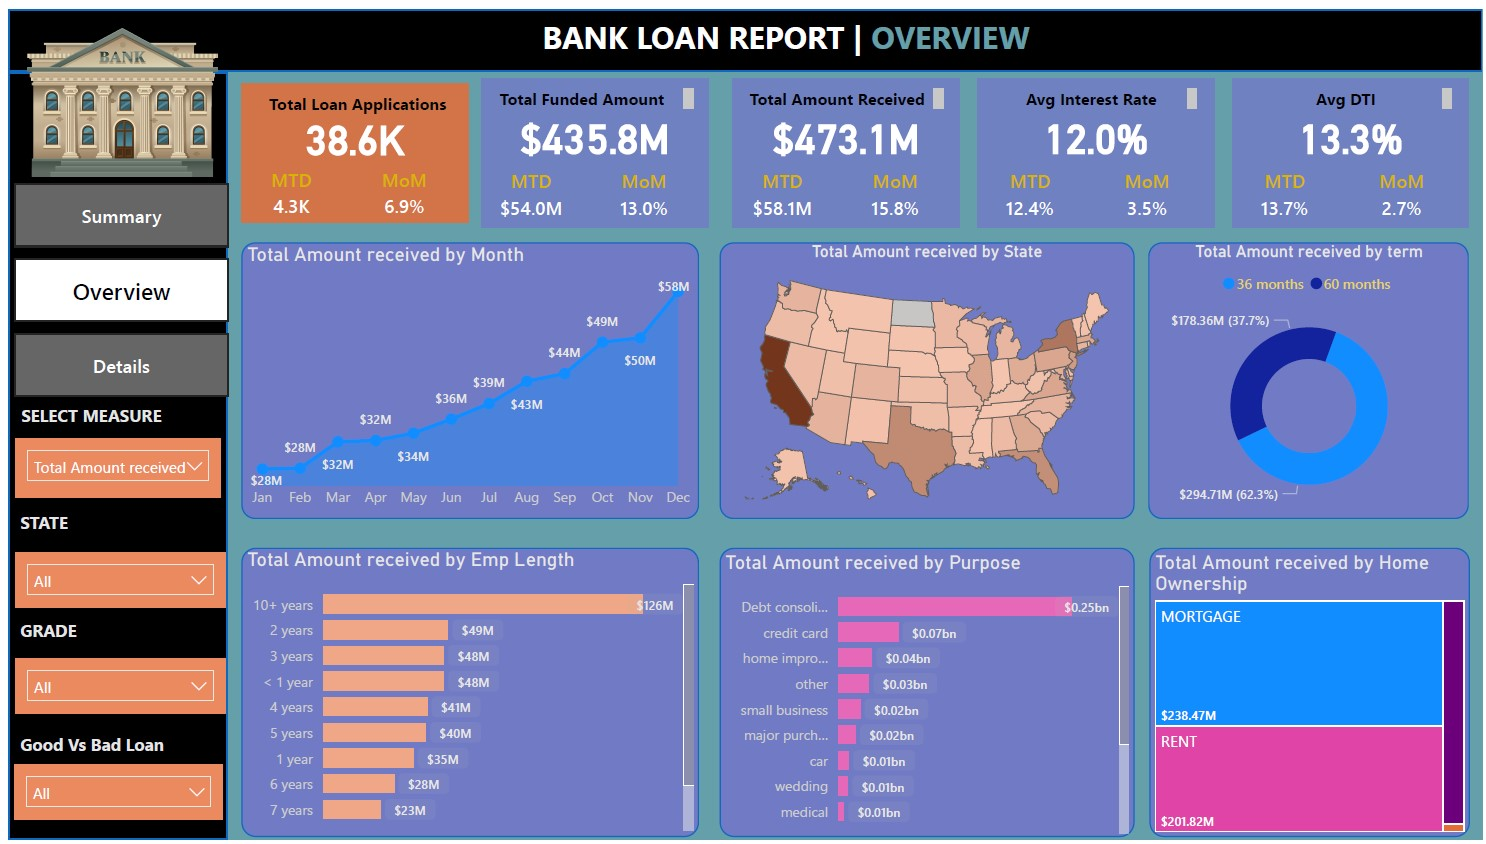

What the dashboard file says about the page in this screenshot:
{"tool":"powerbi","page":{"name":"Overview","canvas":[1280,720],"ordinal":1},"visuals":[{"type":"shape","box":[201.9,201.9,397.4,240],"z":0},{"type":"shape","box":[0,0,1279.5,54],"z":1000},{"type":"shape","box":[0,54.2,190,665.8],"z":2000},{"type":"textbox","box":[457.7,0,481.6,55.6],"z":3000},{"type":"shape","box":[410.1,60.4,197.1,128.7],"z":3000,"group":"g2"},{"type":"shape","box":[627.8,60.4,197.1,128.7],"z":3000,"group":"g3"},{"type":"shape","box":[840.8,60.4,205,128.7],"z":3000,"group":"g4"},{"type":"shape","box":[1061.7,60.4,205,128.7],"z":3000,"group":"g5"},{"type":"shape","box":[201.9,63.6,197.1,120.8],"z":3000,"group":"g1"},{"type":"group","id":"g1","title":"Group 1","box":[201.9,63.6,197.1,120.8],"z":4000},{"type":"card","fields":{"Values":["bank_loan_data.Total Funded Amount"]},"box":[410.1,77.8,197.1,64.4],"z":4000,"group":"g2"},{"type":"card","fields":{"Values":["bank_loan_data.Total Amount received"]},"box":[627.8,77.8,197.1,64.4],"z":4000,"group":"g3"},{"type":"card","fields":{"Values":["bank_loan_data.Avg Interest Rate"]},"box":[840.8,77.8,205,64.4],"z":4000,"group":"g4"},{"type":"card","fields":{"Values":["bank_loan_data.AVG DTI"]},"box":[1061.7,77.8,205,64.4],"z":4000,"group":"g5"},{"type":"card","fields":{"Values":["bank_loan_data.Total Loan Application"]},"box":[201.9,79.9,197.1,60.4],"z":4000,"group":"g1"},{"type":"group","id":"g2","title":"Group 1","box":[410.1,60.4,197.1,128.7],"z":4250,"group":"g6"},{"type":"group","id":"g3","title":"Group 1","box":[627.8,60.4,197.1,128.7],"z":4250,"group":"g7"},{"type":"group","id":"g4","title":"Group 1","box":[840.8,60.4,205,128.7],"z":4250,"group":"g8"},{"type":"group","id":"g5","title":"Group 1","box":[1061.7,60.4,205,128.7],"z":4250,"group":"g9"},{"type":"textbox","box":[220.9,66.8,178,31.8],"z":5000},{"type":"textbox","box":[421.1,62.9,178,28.6],"z":5001,"group":"g6"},{"type":"textbox","box":[637.3,63.9,178,27.8],"z":5001,"group":"g7"},{"type":"textbox","box":[850.7,63.9,185.2,27.8],"z":5001,"group":"g8"},{"type":"textbox","box":[1071.6,63.9,185.2,27.8],"z":5001,"group":"g9"},{"type":"group","id":"g6","title":"Group 2","box":[410.1,60.4,197.1,128.7],"z":6000},{"type":"card","title":"MTD","fields":{"Values":["bank_loan_data.MTD Loan Applications"]},"box":[201.9,137.1,87.4,47.3],"z":6000,"group":"g1"},{"type":"card","title":"MTD","fields":{"Values":["bank_loan_data.MTD Loan Amount"]},"box":[410.1,138.7,87.4,50.5],"z":6000,"group":"g2"},{"type":"card","title":"MTD","fields":{"Values":["bank_loan_data.MTD Total amount received"]},"box":[627.8,138.7,87.4,50.5],"z":6000,"group":"g3"},{"type":"card","title":"MTD","fields":{"Values":["bank_loan_data.MTD Avg interest rate"]},"box":[840.8,138.7,90.9,50.5],"z":6000,"group":"g4"},{"type":"card","title":"MTD","fields":{"Values":["bank_loan_data.MTD Avg DTI"]},"box":[1061.7,138.7,90.9,50.5],"z":6000,"group":"g5"},{"type":"group","id":"g7","title":"Group 2","box":[627.8,60.4,197.1,128.7],"z":7000},{"type":"card","title":"MoM","fields":{"Values":["bank_loan_data.MOM Loan Application"]},"box":[287.7,137.1,111.3,47.3],"z":7000,"group":"g1"},{"type":"card","title":"MoM","fields":{"Values":["bank_loan_data.MOM Total funded amount"]},"box":[495.9,138.7,111.3,50.5],"z":7000,"group":"g2"},{"type":"card","title":"MoM","fields":{"Values":["bank_loan_data.MOM Total amount received"]},"box":[713.6,138.7,111.3,50.5],"z":7000,"group":"g3"},{"type":"card","title":"MoM","fields":{"Values":["bank_loan_data.MOM Avg Int Rate"]},"box":[930.1,138.7,115.7,50.5],"z":7000,"group":"g4"},{"type":"card","title":"MoM","fields":{"Values":["bank_loan_data.MOM Avg DTI"]},"box":[1151,138.7,115.7,50.5],"z":7000,"group":"g5"},{"type":"group","id":"g8","title":"Group 2","box":[840.8,60.4,205,128.7],"z":8000},{"type":"group","id":"g9","title":"Group 2","box":[1061.7,60.4,205,128.7],"z":9000},{"type":"slicer","fields":{"Values":["bank_loan_data.address_state"]},"box":[6.4,471,181.2,47.7],"z":10000},{"type":"textbox","box":[4.8,429.7,76.3,31.8],"z":11000},{"type":"slicer","fields":{"Values":["bank_loan_data.grade"]},"box":[6.4,563.2,181.2,47.7],"z":12000},{"type":"textbox","box":[4.8,523.4,76.3,31.8],"z":13000},{"type":"textbox","box":[4.8,622,179.6,33.4],"z":14000},{"type":"slicer","fields":{"Values":["bank_loan_data.Good Vs Bad Loans"]},"box":[4.8,655.4,181.2,47.7],"z":15000},{"type":"slicer","fields":{"Values":["Parameter.Parameter"]},"box":[6.4,372.5,178,50.9],"z":16000},{"type":"areaChart","fields":{"Y":["bank_loan_data.Total Amount received"],"Category":["Date Table.Month"]},"box":[201.9,201.9,397.4,240],"z":17000},{"type":"textbox","box":[6.4,337.5,149.4,31.8],"z":18000},{"type":"shape","box":[616.7,201.9,360,240],"z":19000},{"type":"shapeMap","fields":{"Value":["bank_loan_data.Total Amount received"],"Category":["bank_loan_data.address_state"]},"box":[616.7,201.9,360.8,240],"z":20000},{"type":"shape","box":[988.6,201.9,278.1,240],"z":21000},{"type":"donutChart","fields":{"Y":["bank_loan_data.Total Amount received"],"Category":["bank_loan_data.term"]},"box":[990.2,201.9,276.6,240],"z":22000},{"type":"shape","box":[201.9,467.3,397.4,251.1],"z":23000},{"type":"shape","box":[616.7,467.3,360.8,251.1],"z":24000},{"type":"barChart","fields":{"Y":["bank_loan_data.Total Amount received"],"Category":["bank_loan_data.emp_length"]},"box":[201.9,467.3,397.4,251.1],"z":25000},{"type":"barChart","fields":{"Y":["bank_loan_data.Total Amount received"],"Category":["bank_loan_data.purpose"]},"box":[616.7,468.9,360.8,251.1],"z":26000},{"type":"shape","box":[990.2,467.3,278.1,251.1],"z":27000},{"type":"treemap","fields":{"Values":["bank_loan_data.Total Amount received"],"Group":["bank_loan_data.home_ownership"]},"box":[990.2,468.9,278.1,249.5],"z":28000},{"type":"pageNavigator","box":[4.8,151,186,186],"z":28001},{"type":"image","box":[11.1,0,174.8,160.5],"z":28002}]}

Visuals, with their boxes in screenshot pixels (x1, y1, x2, y2), scaled from the page's 1280x720 canvas onto the 1486x844 screenshot:
shape: (234,237,696,518)
shape: (0,0,1485,63)
shape: (0,64,221,843)
textbox: (531,0,1090,65)
shape: (476,71,705,222)
shape: (729,71,958,222)
shape: (976,71,1214,222)
shape: (1233,71,1471,222)
shape: (234,75,463,216)
"Group 1" group: (234,75,463,216)
card - bank_loan_data.Total Funded Amount: (476,91,705,167)
card - bank_loan_data.Total Amount received: (729,91,958,167)
card - bank_loan_data.Avg Interest Rate: (976,91,1214,167)
card - bank_loan_data.AVG DTI: (1233,91,1471,167)
card - bank_loan_data.Total Loan Application: (234,94,463,164)
"Group 1" group: (476,71,705,222)
"Group 1" group: (729,71,958,222)
"Group 1" group: (976,71,1214,222)
"Group 1" group: (1233,71,1471,222)
textbox: (256,78,463,116)
textbox: (489,74,696,107)
textbox: (740,75,947,107)
textbox: (988,75,1203,107)
textbox: (1244,75,1459,107)
"Group 2" group: (476,71,705,222)
"MTD" card: (234,161,336,216)
"MTD" card: (476,163,578,222)
"MTD" card: (729,163,830,222)
"MTD" card: (976,163,1082,222)
"MTD" card: (1233,163,1338,222)
"Group 2" group: (729,71,958,222)
"MoM" card: (334,161,463,216)
"MoM" card: (576,163,705,222)
"MoM" card: (828,163,958,222)
"MoM" card: (1080,163,1214,222)
"MoM" card: (1336,163,1471,222)
"Group 2" group: (976,71,1214,222)
"Group 2" group: (1233,71,1471,222)
slicer - bank_loan_data.address_state: (7,552,218,608)
textbox: (6,504,94,541)
slicer - bank_loan_data.grade: (7,660,218,716)
textbox: (6,614,94,651)
textbox: (6,729,214,768)
slicer - bank_loan_data.Good Vs Bad Loans: (6,768,216,824)
slicer - Parameter.Parameter: (7,437,214,496)
areaChart - bank_loan_data.Total Amount received x Date Table.Month: (234,237,696,518)
textbox: (7,396,181,433)
shape: (716,237,1134,518)
shapeMap - bank_loan_data.Total Amount received x bank_loan_data.address_state: (716,237,1135,518)
shape: (1148,237,1471,518)
donutChart - bank_loan_data.Total Amount received x bank_loan_data.term: (1150,237,1471,518)
shape: (234,548,696,842)
shape: (716,548,1135,842)
barChart - bank_loan_data.Total Amount received x bank_loan_data.emp_length: (234,548,696,842)
barChart - bank_loan_data.Total Amount received x bank_loan_data.purpose: (716,550,1135,843)
shape: (1150,548,1472,842)
treemap - bank_loan_data.Total Amount received x bank_loan_data.home_ownership: (1150,550,1472,842)
pageNavigator: (6,177,222,395)
image: (13,0,216,188)
